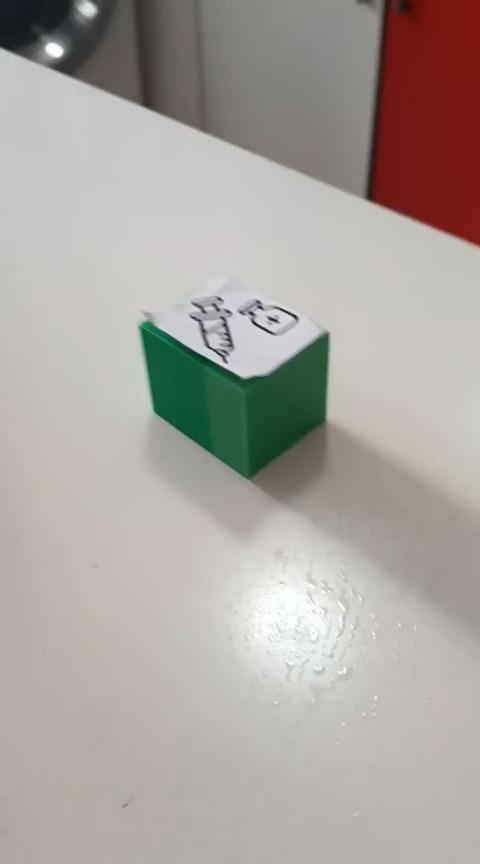antiseptic cream: (137, 274, 331, 480)
